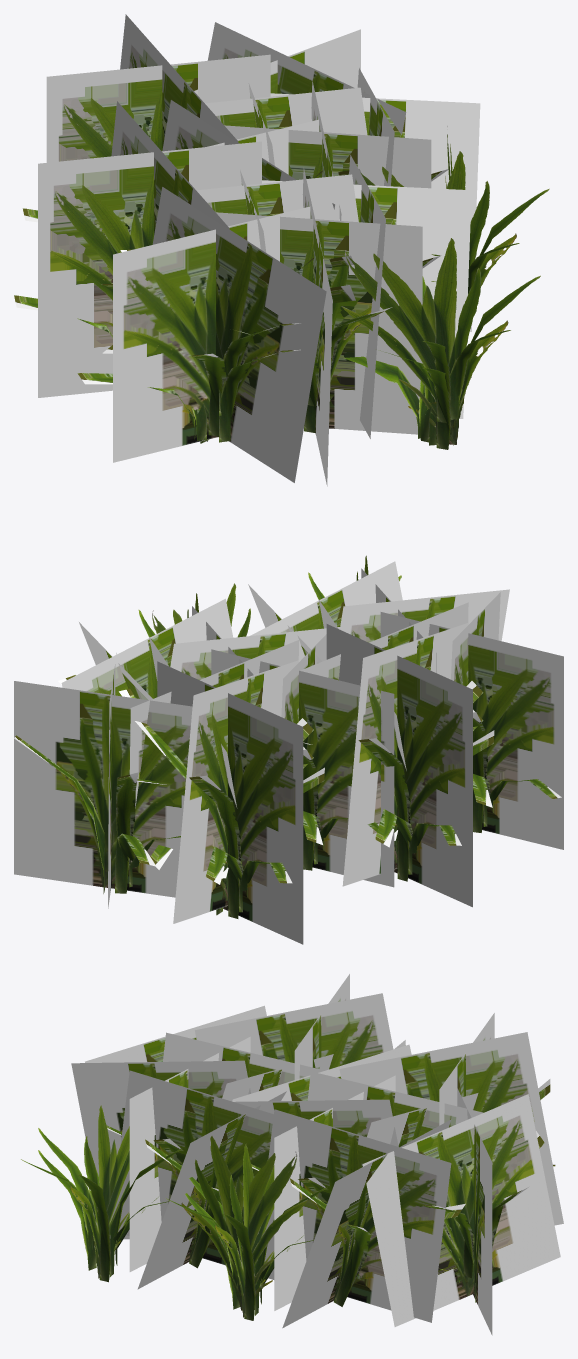
File: leaf grass(region).fbx
3 views of the same model, one above another, from view 1: azimuth 30°, elevation 25°; view 2: azimuth 150°, elevation 25°; view 3: azimuth 270°, elevation 25° (orthographic). The views are drawn at different scales.
Parts seen in each view (by area): view 1: leaf_grass_region_Group8_Form36_Form36, leaf_grass_region_Form36; view 2: leaf_grass_region_Group8_Form36_Form36, leaf_grass_region_Form36; view 3: leaf_grass_region_Group8_Form36_Form36, leaf_grass_region_Form36.
Part boxes in pixels (box(x1,y1,x2,y2)): leaf_grass_region_Group8_Form36_Form36: box(14, 14, 480, 486); leaf_grass_region_Form36: box(341, 126, 549, 449); leaf_grass_region_Group8_Form36_Form36: box(14, 561, 563, 944); leaf_grass_region_Form36: box(138, 555, 401, 637); leaf_grass_region_Group8_Form36_Form36: box(71, 974, 563, 1335); leaf_grass_region_Form36: box(21, 1105, 327, 1320).
Size of the model in its own units: 90.04 by 50.52 by 109.
